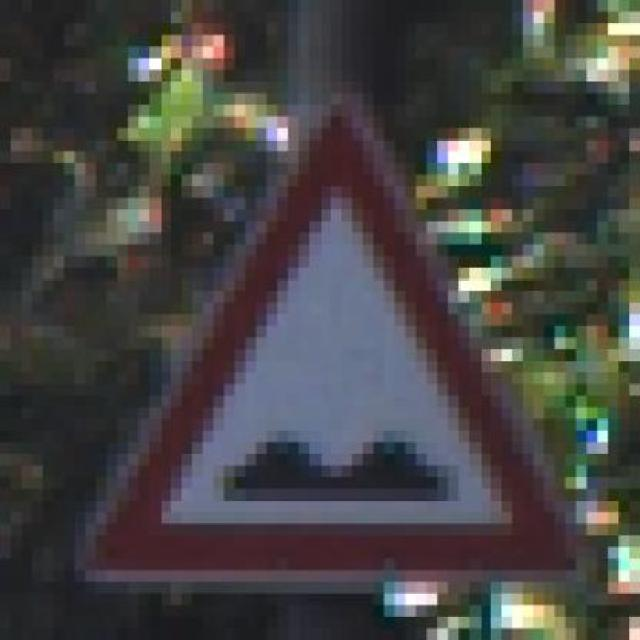Uneven Road: (87, 93, 588, 582)
